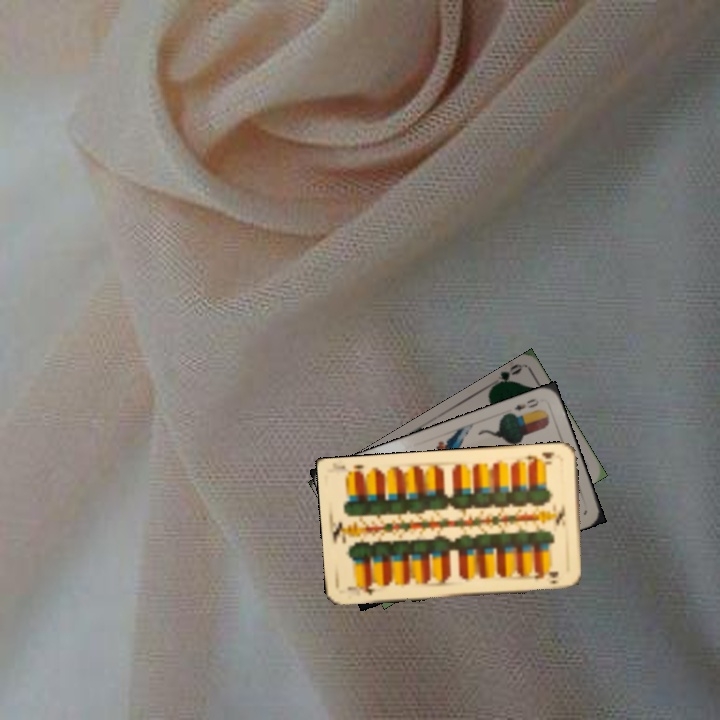E10: (520, 448, 558, 467), (343, 579, 380, 598)
EO: (506, 394, 541, 420)
GO: (488, 360, 524, 390)
